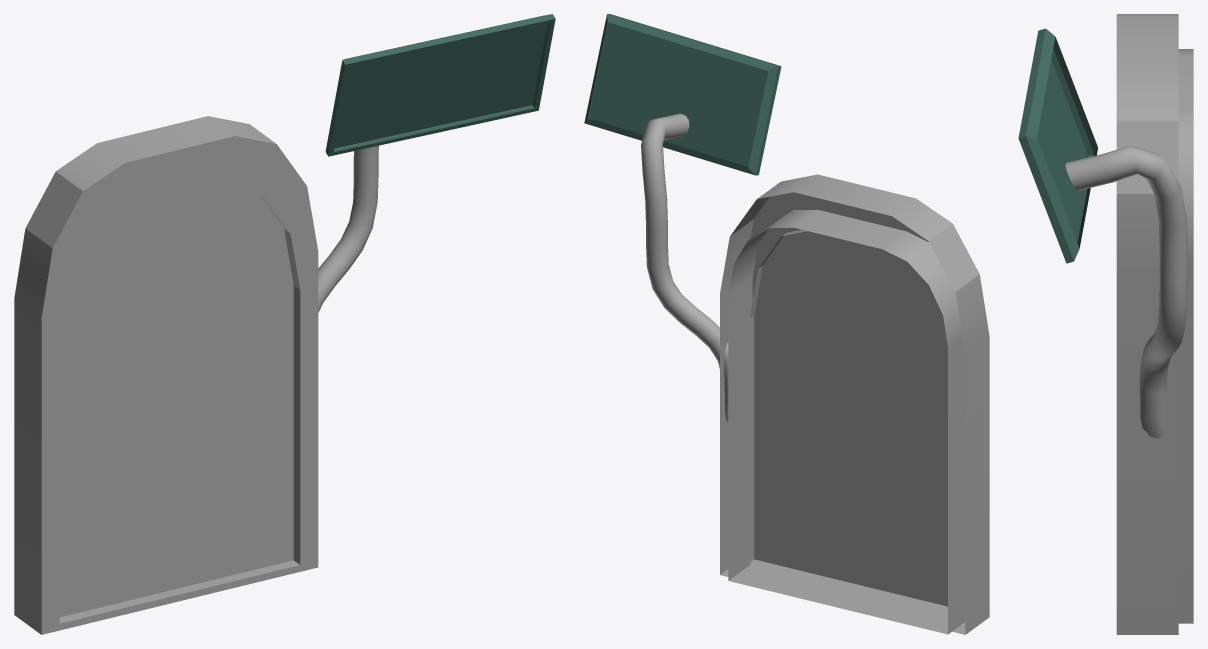
File: RetroExport2_Door 1.fbx
The picture shows the model from 3 angles, left to right: view 1: azimuth 30°, elevation 25°; view 2: azimuth 150°, elevation 25°; view 3: azimuth 270°, elevation 25°; orthographic projection. The views are drawn at different scales.
Parts seen in each view (by area): view 1: pCube138, Door, Screen7, Pipes11; view 2: pCube138, Door, Screen7, Pipes11; view 3: Door, Pipes11, Screen7, pCube138.
Part boxes in pixels (x1,y1,x2,y2): pCube138: [59, 190, 293, 617]; Door: [14, 116, 318, 634]; Screen7: [325, 14, 555, 156]; Pipes11: [318, 145, 378, 312]; pCube138: [728, 210, 965, 634]; Door: [720, 174, 989, 634]; Screen7: [584, 14, 781, 175]; Pipes11: [641, 113, 728, 421]; Door: [1116, 14, 1178, 634]; Pipes11: [1065, 146, 1187, 438]; Screen7: [1018, 28, 1097, 263]; pCube138: [1178, 49, 1193, 623].
Bounding box in the file's own units: 10 × 10.75 × 2.81.
